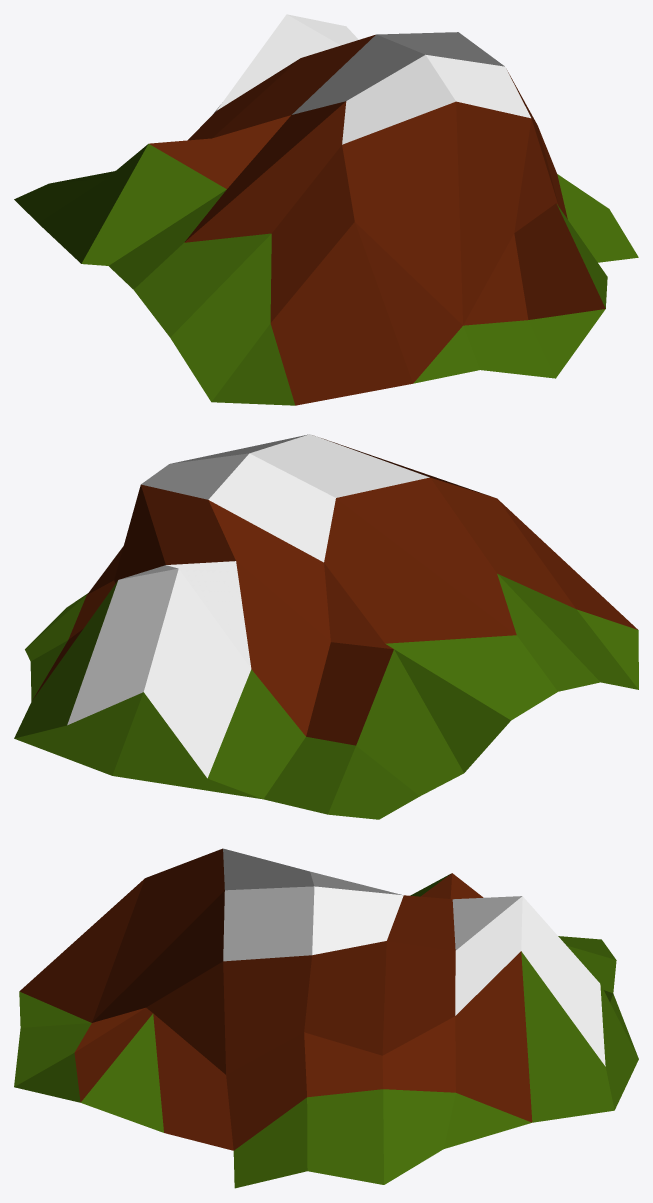
Rendered from voumo_2 (1).fbx.
The picture shows the model from 3 angles, top to bottom: view 1: azimuth 30°, elevation 25°; view 2: azimuth 150°, elevation 25°; view 3: azimuth 270°, elevation 25°; orthographic projection. The views are drawn at different scales.
Visible parts, largest first — view 1: vouno mou; view 2: vouno mou; view 3: vouno mou.
Boxes of the visible parts, x1,y1,x2,y2 form: vouno mou: [14, 14, 638, 405]; vouno mou: [14, 434, 638, 819]; vouno mou: [14, 848, 638, 1188].
Size of the model in its own units: 65.93 by 28.38 by 74.07.
